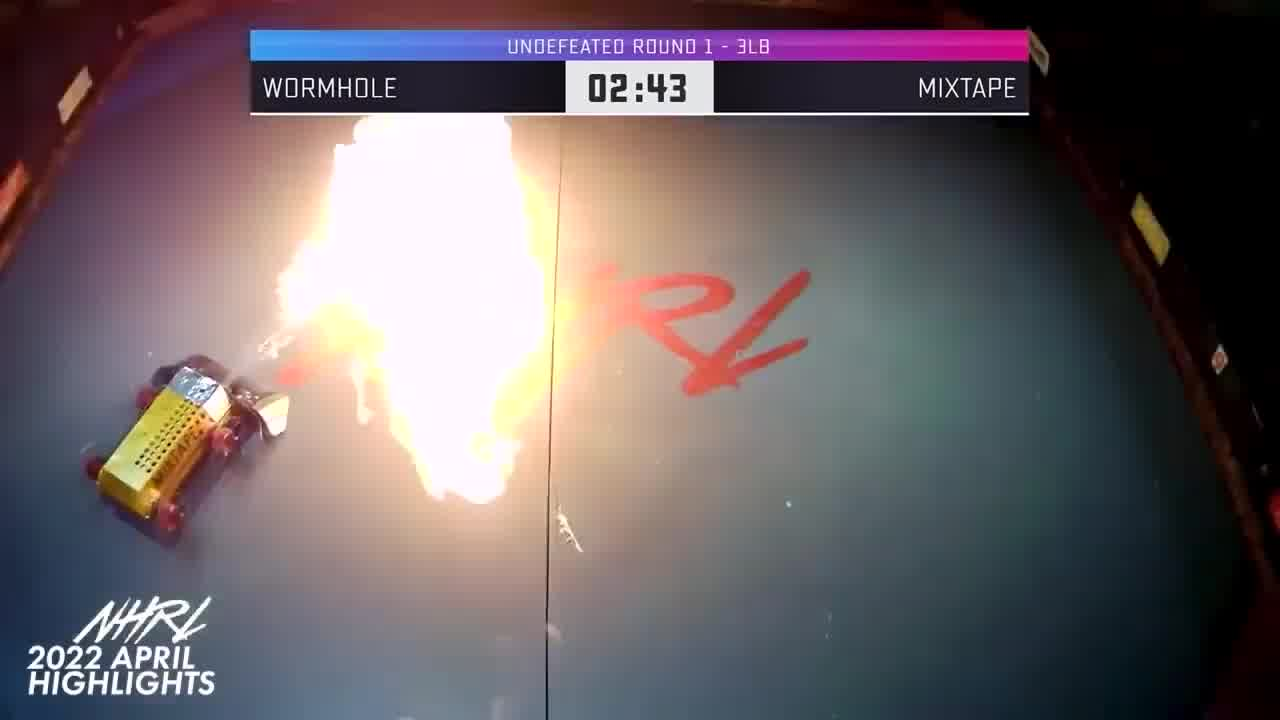combatbot: (98, 361, 231, 521)
